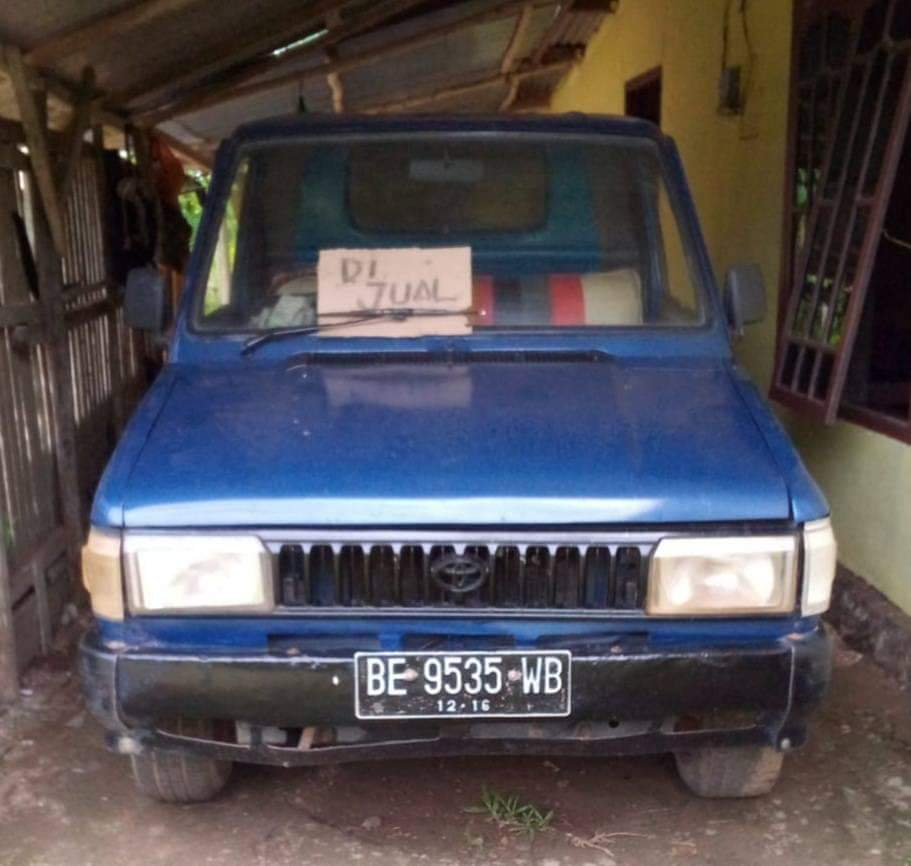plate: (356, 647, 571, 723)
